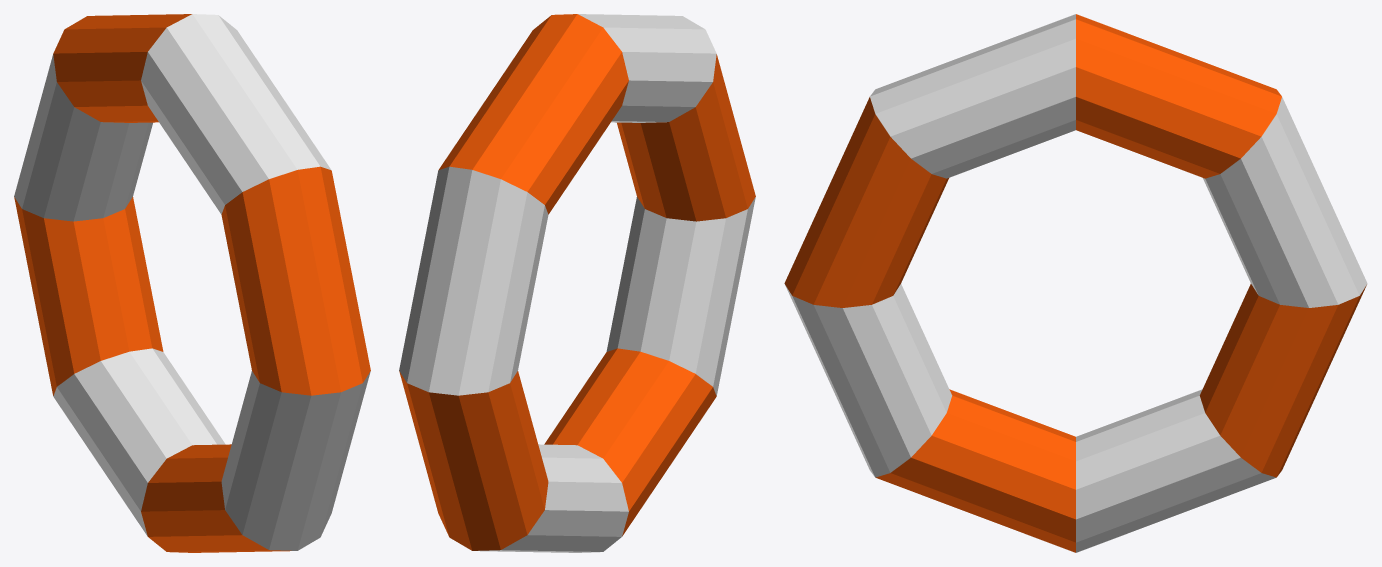
Rendered from Salvavidas.fbx.
3 renders of one model, left to right at view 1: azimuth 30°, elevation 25°; view 2: azimuth 150°, elevation 25°; view 3: azimuth 270°, elevation 25°, orthographic.
Visible parts, largest first — view 1: Torus.001, Torus.002; view 2: Torus.002, Torus.001; view 3: Torus.001, Torus.002.
Part boxes in pixels (x1=…): Torus.001: x1=14, y1=14, x2=370, y2=550; Torus.002: x1=14, y1=14, x2=370, y2=552; Torus.002: x1=399, y1=14, x2=755, y2=550; Torus.001: x1=399, y1=14, x2=755, y2=552; Torus.001: x1=785, y1=14, x2=1367, y2=552; Torus.002: x1=784, y1=14, x2=1366, y2=552.
Bounding box in the file's own units: 68.22 × 341 × 341.
